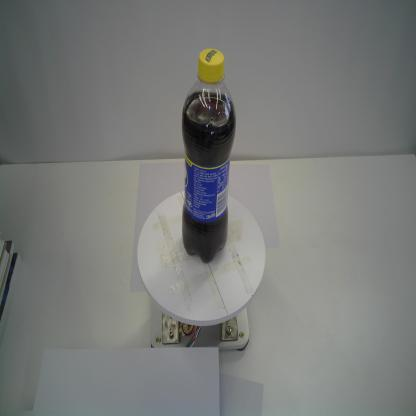Drink: (179, 46, 237, 264)
